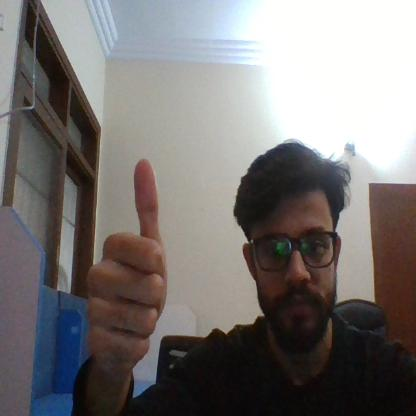thumbs-up: (80, 156, 180, 374)
